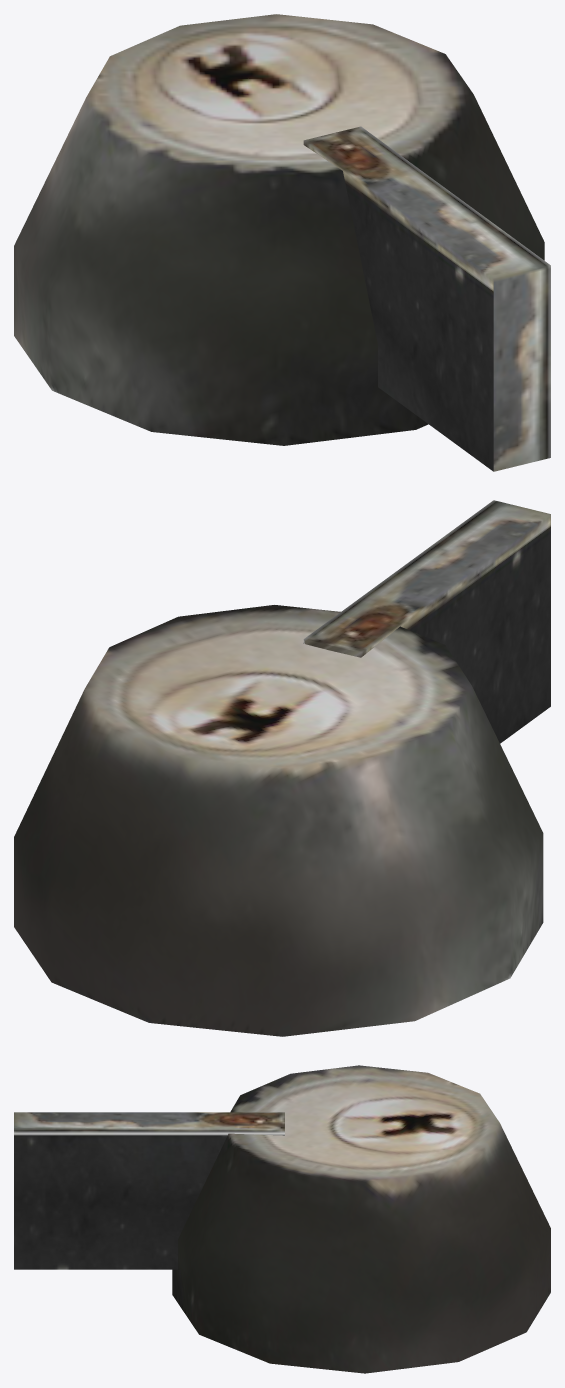
Rendered from Unity2Skfb.gltf.
The picture shows the model from 3 angles, top to bottom: view 1: azimuth 30°, elevation 25°; view 2: azimuth 150°, elevation 25°; view 3: azimuth 270°, elevation 25°; orthographic projection. The views are drawn at different scales.
Visible parts, largest first — view 1: node_A8_-1058; view 2: node_A8_-1058; view 3: node_A8_-1058.
Part boxes in pixels (box(x1,y1,x2,y2)): node_A8_-1058: box(14, 14, 550, 471); node_A8_-1058: box(14, 500, 550, 1036); node_A8_-1058: box(14, 1065, 550, 1373).
Bounding box in the file's own units: 0.0497 × 0.0248 × 0.0705.
Materials: 1 (1 with a texture image).
